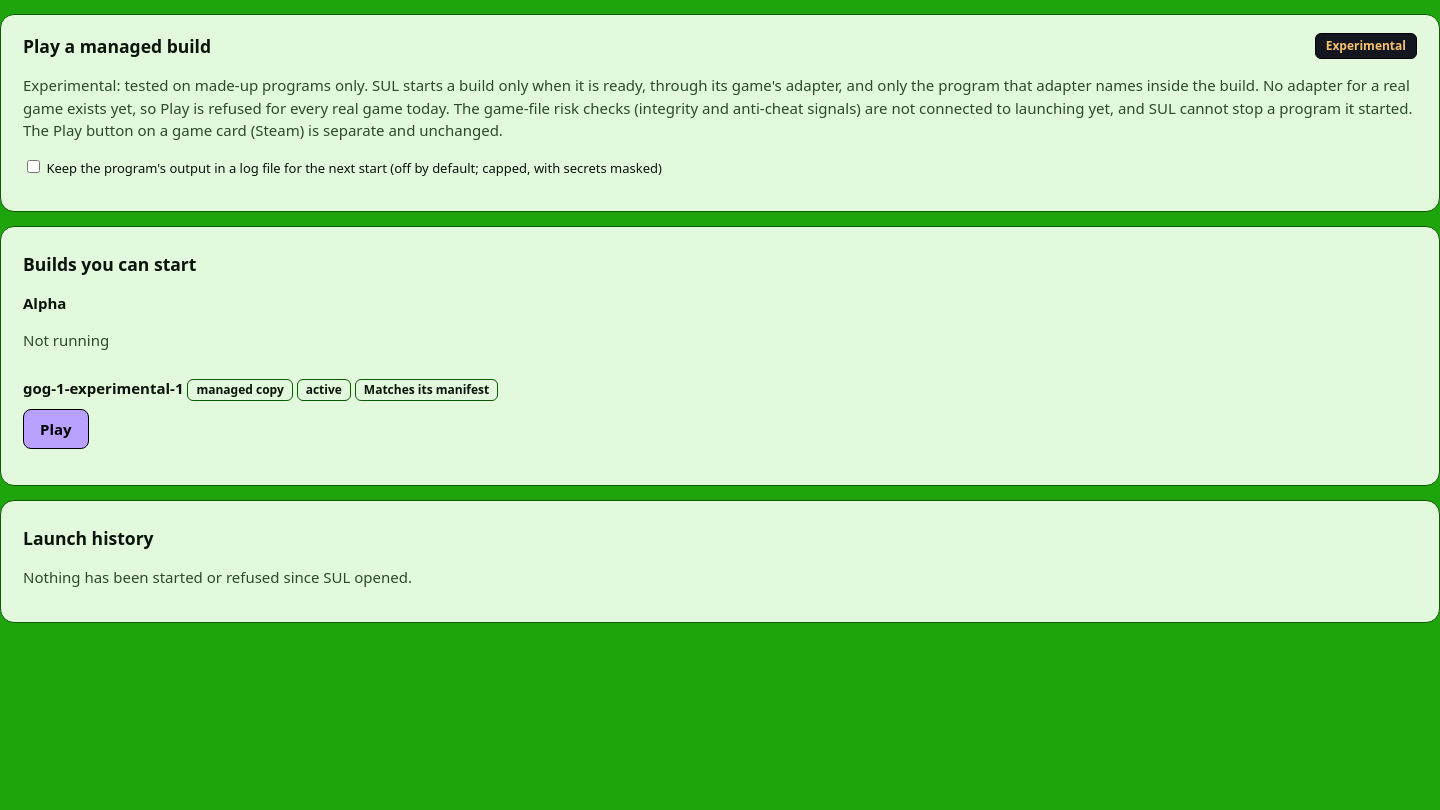
Test case: the play panel, clicked through › a refusal from the core is shown in its own words, kept in the history, and the page then holds Play
Click the button "Play".
click(56, 429)  # box [23,409,89,449]
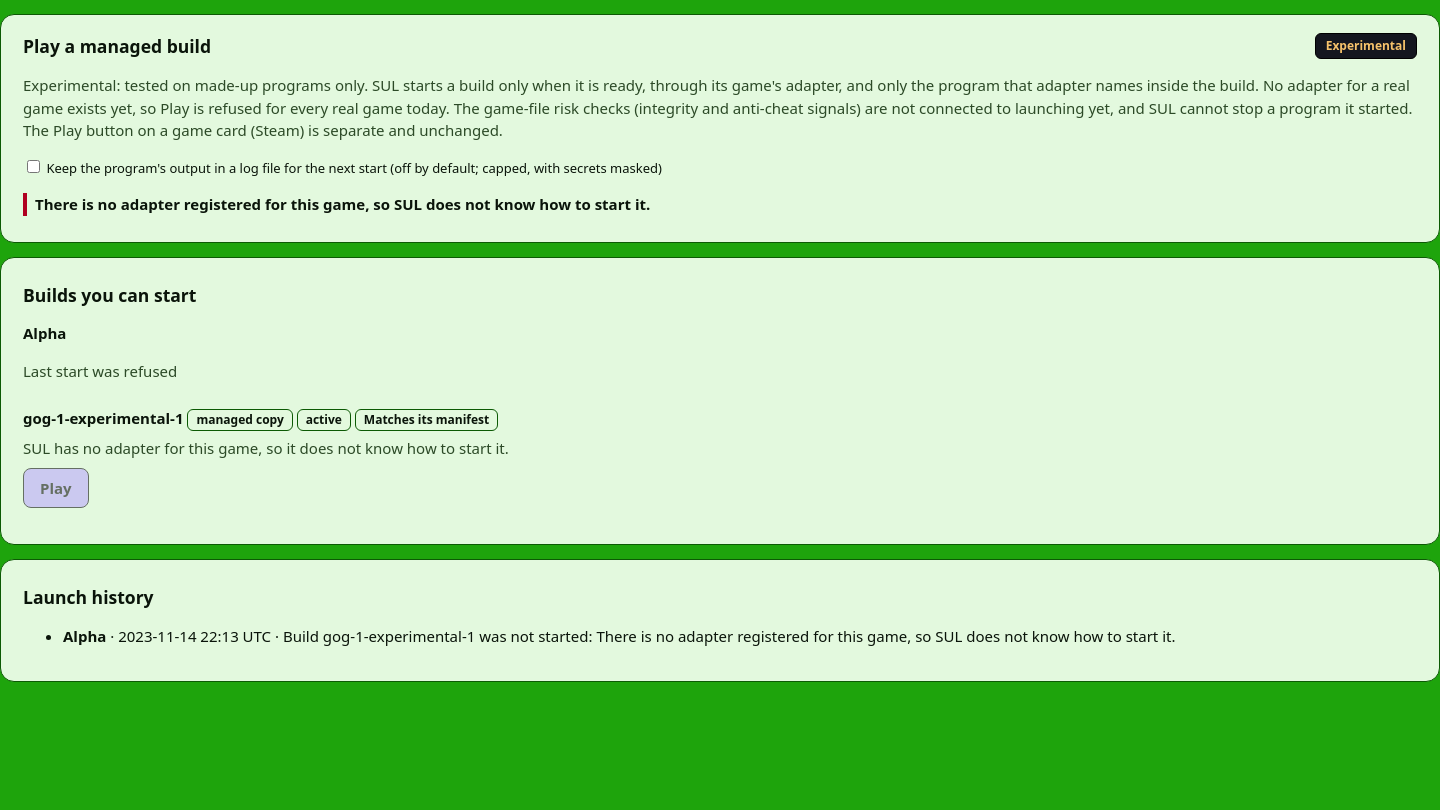
expect the message shows "There is no adapter registered for this game, so SUL does not know how to start it": met, box [35,194,650,214]
expect the element named "Launch history" shows "was not started: There is no adapter registered": met, box [283,626,1176,646]
